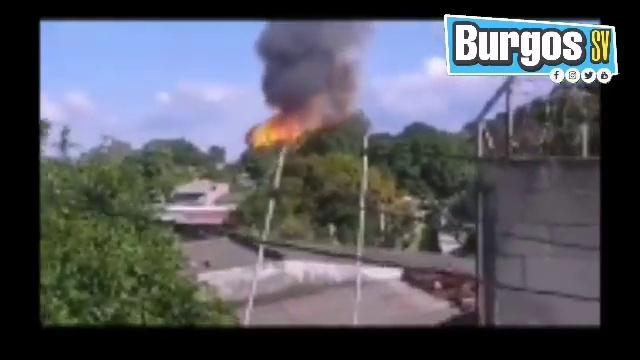fire: (243, 120, 301, 145)
smoke: (268, 22, 345, 106)
